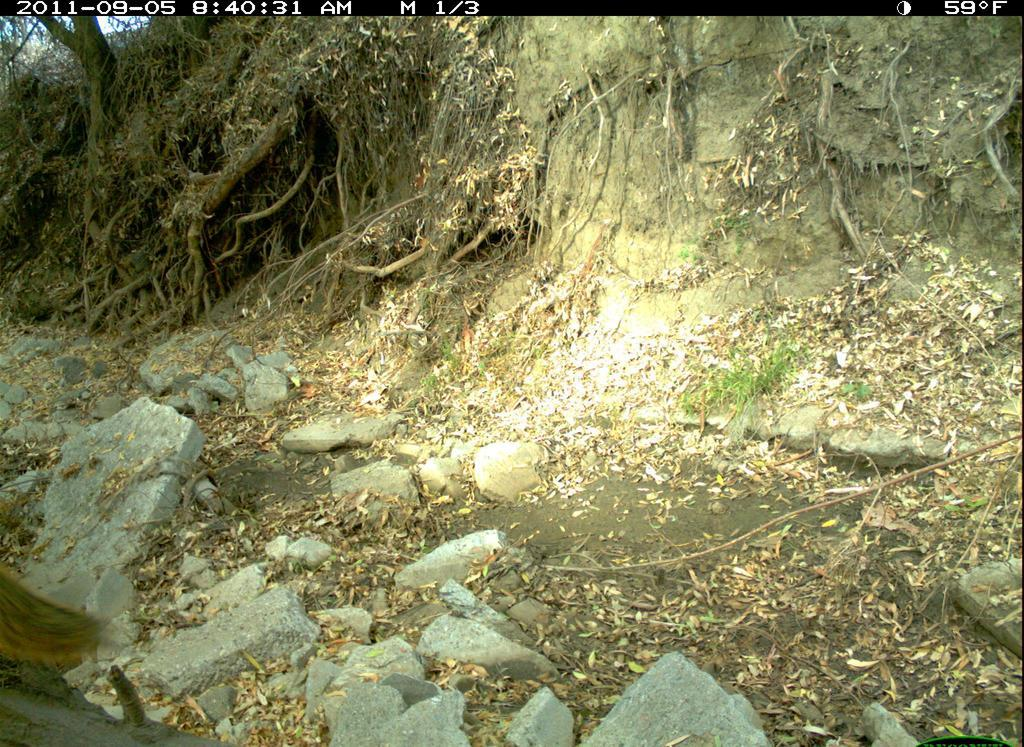squirrel: (1, 546, 128, 677)
